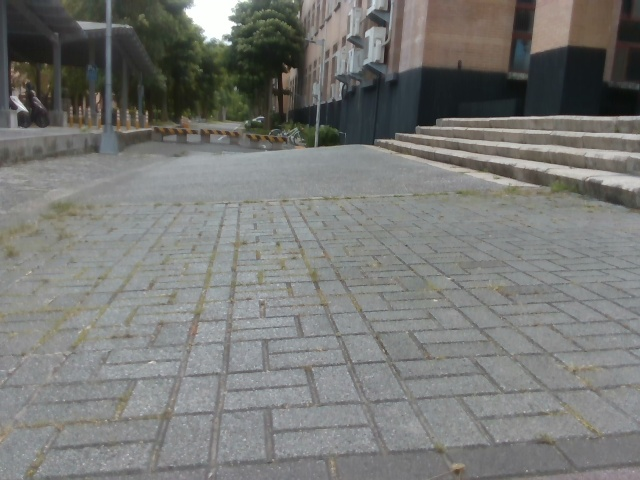grass: (9, 0, 341, 148)
road: (0, 147, 639, 479)
sidewalk: (0, 144, 179, 230), (500, 171, 639, 211)
